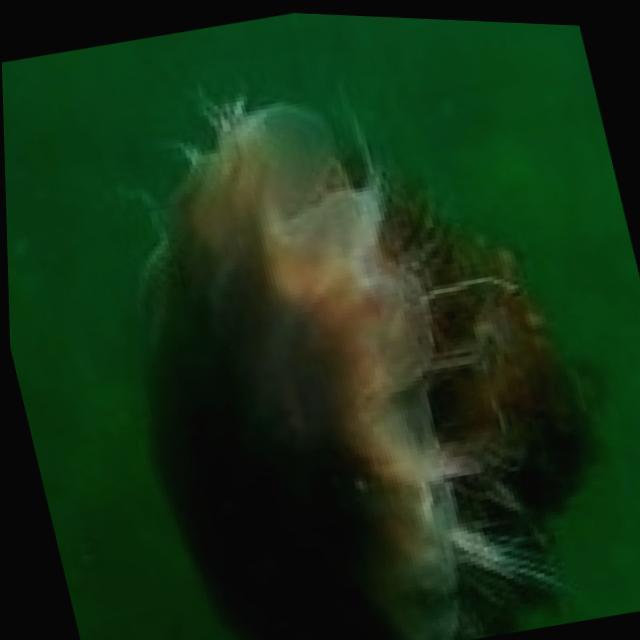Moon-jellyfish: (58, 19, 635, 640)
